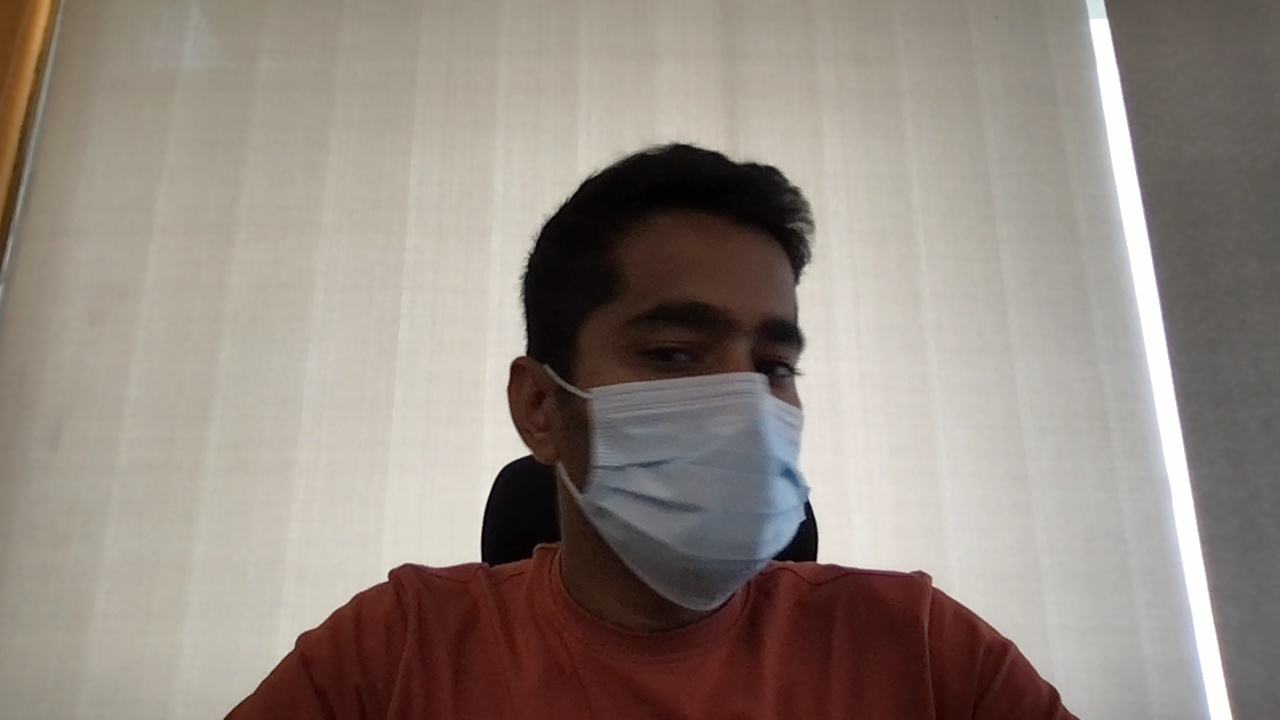mask: (577, 370, 810, 612)
